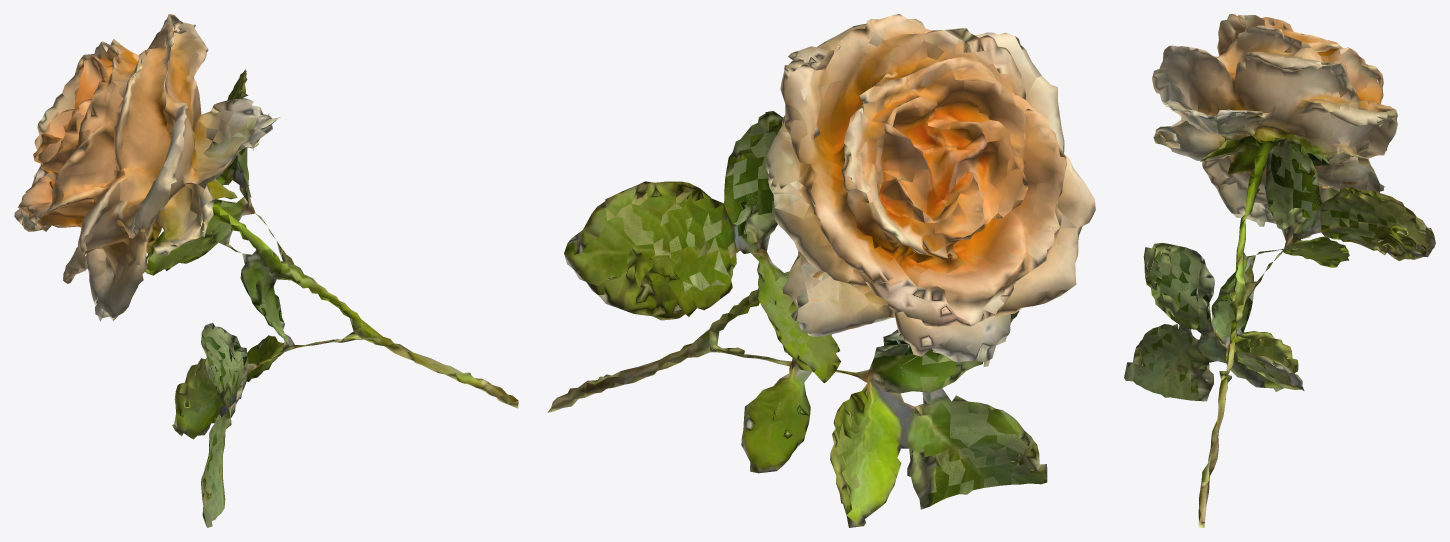
The picture shows the model from 3 angles, left to right: view 1: azimuth 30°, elevation 25°; view 2: azimuth 150°, elevation 25°; view 3: azimuth 270°, elevation 25°; orthographic projection. The views are drawn at different scales.
Parts seen in each view (by area): view 1: 47594b5e; view 2: 47594b5e; view 3: 47594b5e.
Boxes of the visible parts, bbox=[...] form: 47594b5e: bbox=[14, 14, 518, 527]; 47594b5e: bbox=[547, 14, 1095, 527]; 47594b5e: bbox=[1124, 14, 1435, 527].
Size of the model in its own units: 0.099 by 0.0911 by 0.0688.
Materials: 1 (1 with a texture image).
